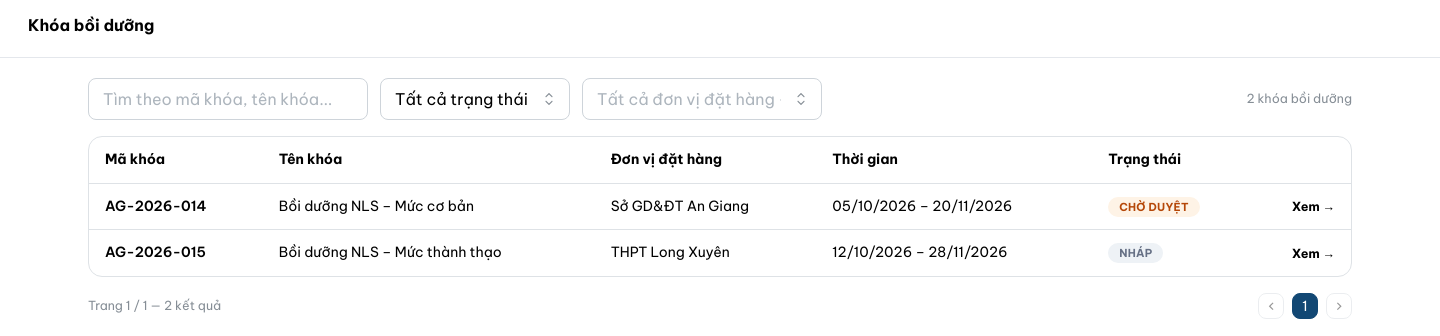
Scenario: Admin — Danh sách khóa bồi dưỡng › bộ lọc trạng thái chỉ còn "Tất cả trạng thái", "Đang mở", "Đóng đăng ký" (bỏ nhap/cho_duyet/tu_choi)
Check: the text "Bồi dưỡng NLS – Mức cơ bản" is shown, box [263, 183, 595, 230]
Click the field showing "Tất cả trạng thái". click: (475, 99)
box: [380, 78, 570, 120]
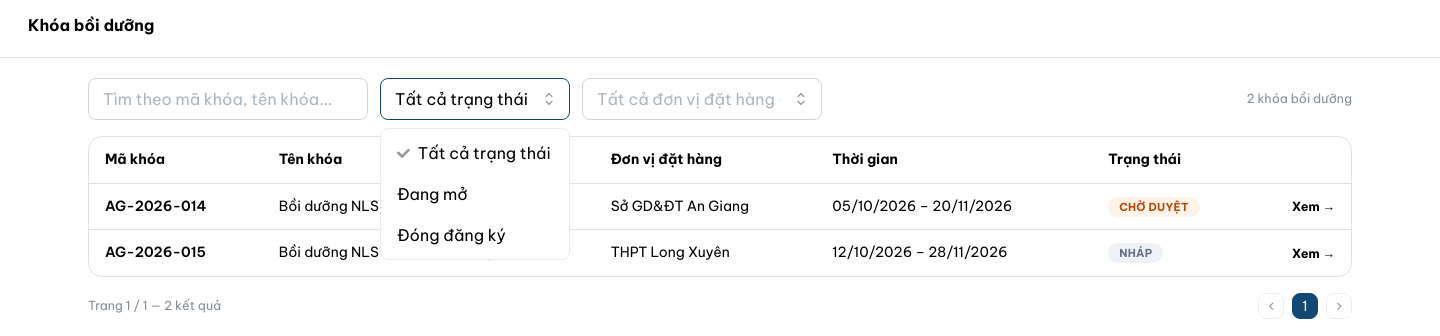
Check: the option "Đang mở" is shown, box [397, 184, 468, 204]
Check: the option "Đóng đăng ký" is shown, box [397, 225, 506, 245]
